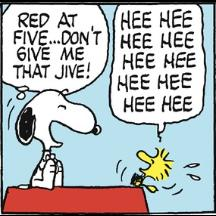snoopy: (16, 88, 102, 190)
